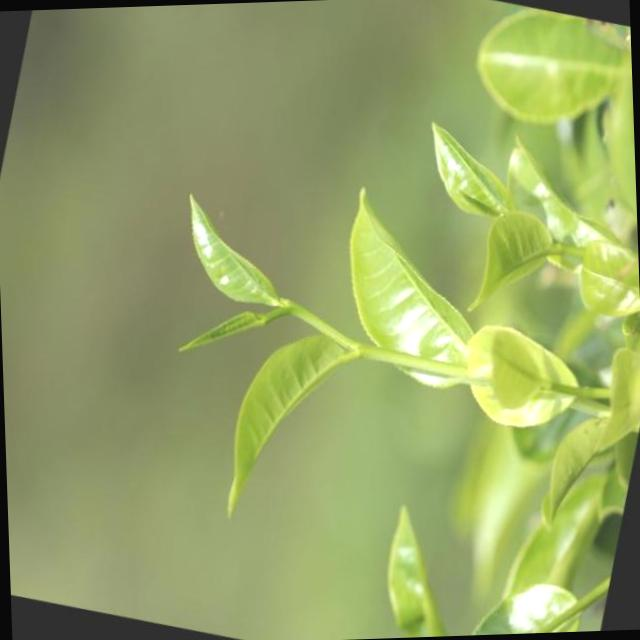Stem: (350, 345, 368, 357)
